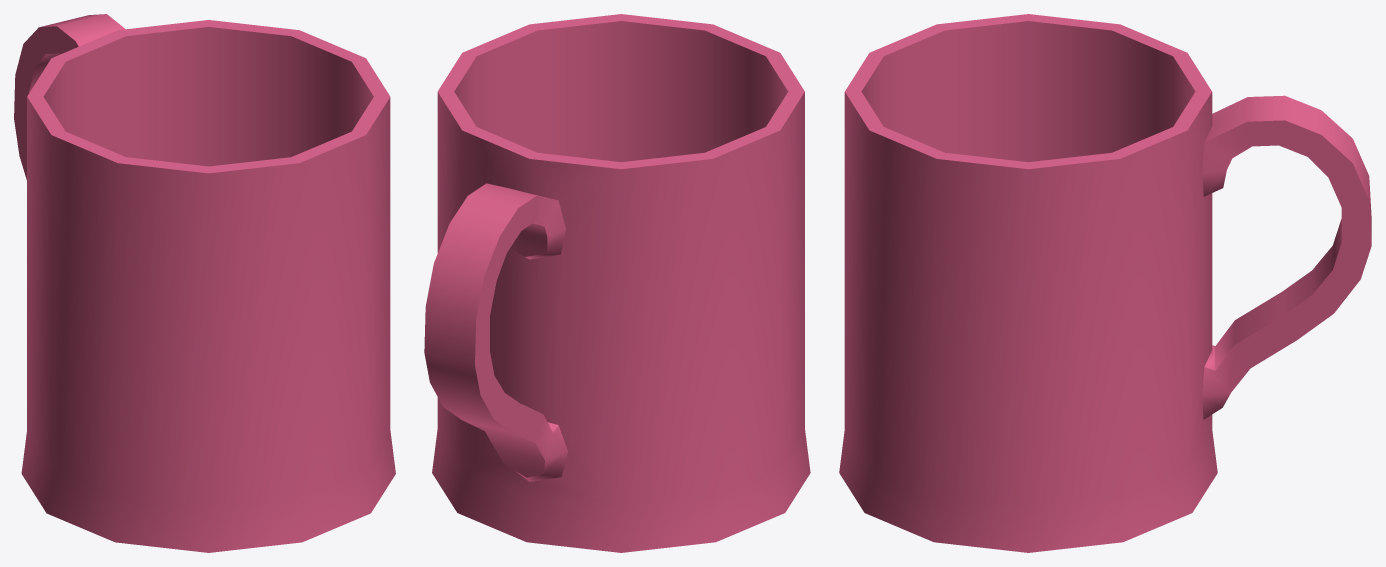
File: Tableware_V7_2.fbx
3 renders of one model, left to right at view 1: azimuth 30°, elevation 25°; view 2: azimuth 150°, elevation 25°; view 3: azimuth 270°, elevation 25°, orthographic.
Visible parts, largest first — view 1: SM_Tableware_V7_2; view 2: SM_Tableware_V7_2; view 3: SM_Tableware_V7_2.
Part boxes in pixels (bbox=[...]): SM_Tableware_V7_2: bbox=[14, 14, 395, 552]; SM_Tableware_V7_2: bbox=[424, 14, 810, 552]; SM_Tableware_V7_2: bbox=[839, 14, 1371, 552].
Size of the model in its own units: 5.72 by 6.36 by 8.04.
